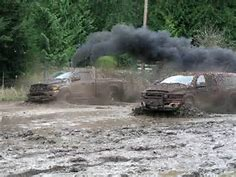smoke: (73, 24, 236, 69)
